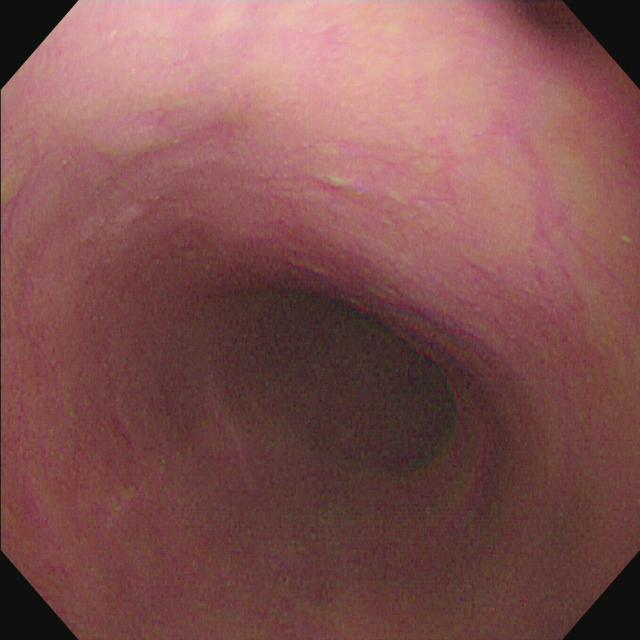E: (249, 290, 456, 475)
